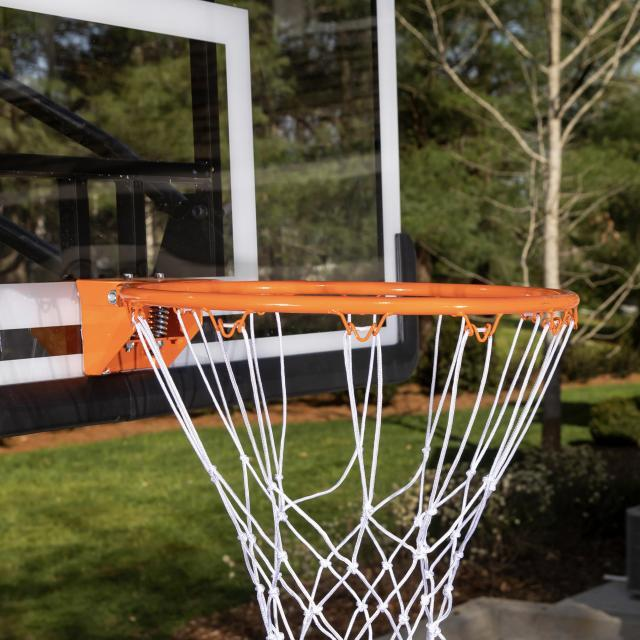hoop: (115, 280, 580, 640)
